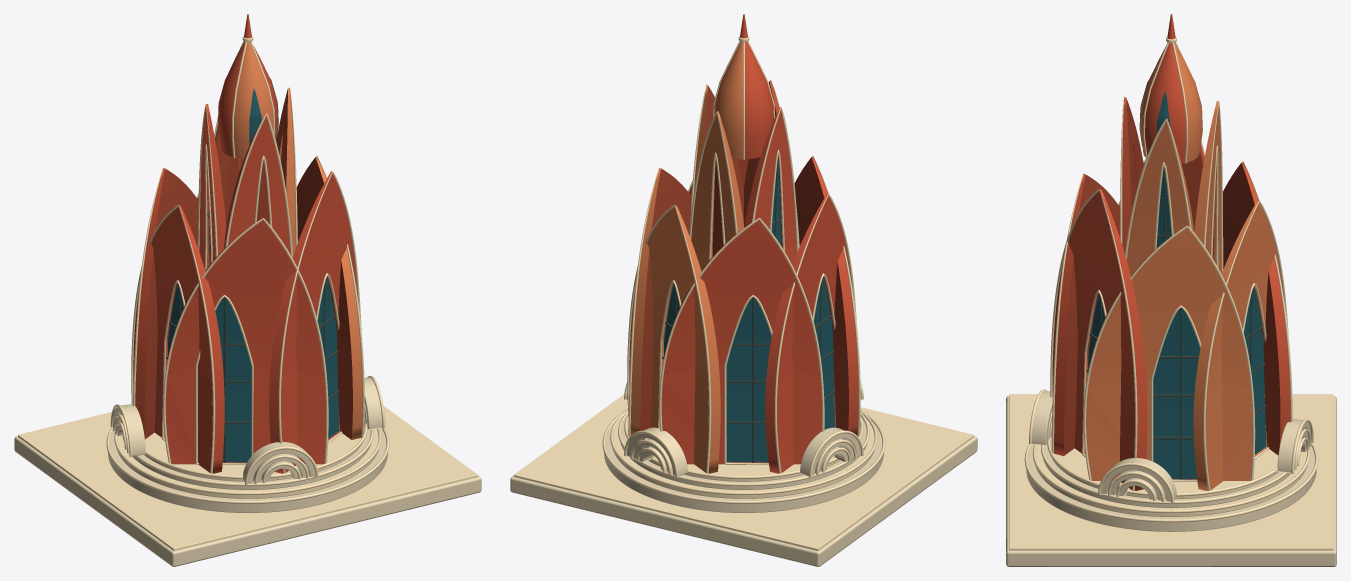
File: nha-trang.glb
3 renders of one model, left to right at view 1: azimuth 30°, elevation 25°; view 2: azimuth 150°, elevation 25°; view 3: azimuth 270°, elevation 25°, orthographic. The views are drawn at different scales.
Parts seen in each view (by area): view 1: THAP_TRAM_HUONG_V2; view 2: THAP_TRAM_HUONG_V2; view 3: THAP_TRAM_HUONG_V2.
Boxes of the visible parts, x1=… form: THAP_TRAM_HUONG_V2: x1=14, y1=14, x2=481, y2=566; THAP_TRAM_HUONG_V2: x1=510, y1=14, x2=977, y2=566; THAP_TRAM_HUONG_V2: x1=1006, y1=14, x2=1336, y2=566.
Bounding box in the file's own units: 1.26 × 1.78 × 1.12.
